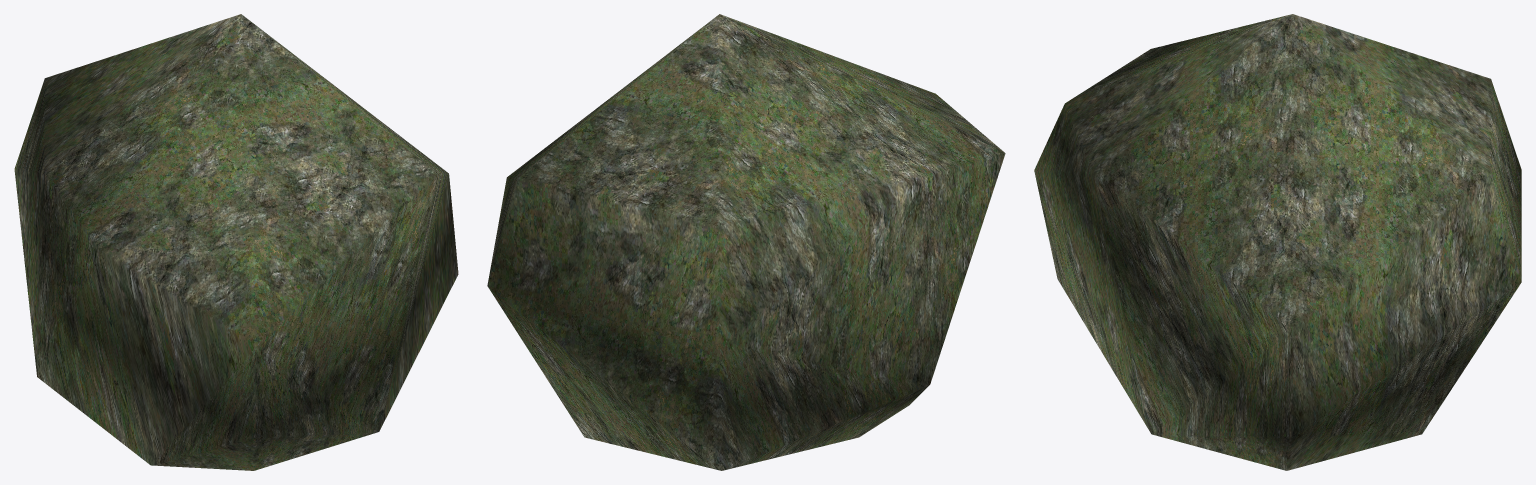
File: mtns_rock_moss_a9_l2.fbx
3 views of the same model, side by side, from view 1: azimuth 30°, elevation 25°; view 2: azimuth 150°, elevation 25°; view 3: azimuth 270°, elevation 25° (orthographic). The views are drawn at different scales.
Parts seen in each view (by area): view 1: mesh_node; view 2: mesh_node; view 3: mesh_node.
Part boxes in pixels (x1,y1,x2,y2): mesh_node: (14,14,458,470); mesh_node: (487,14,1005,470); mesh_node: (1034,14,1521,470).
Bounding box in the file's own units: 1.88 × 1.61 × 1.84.
